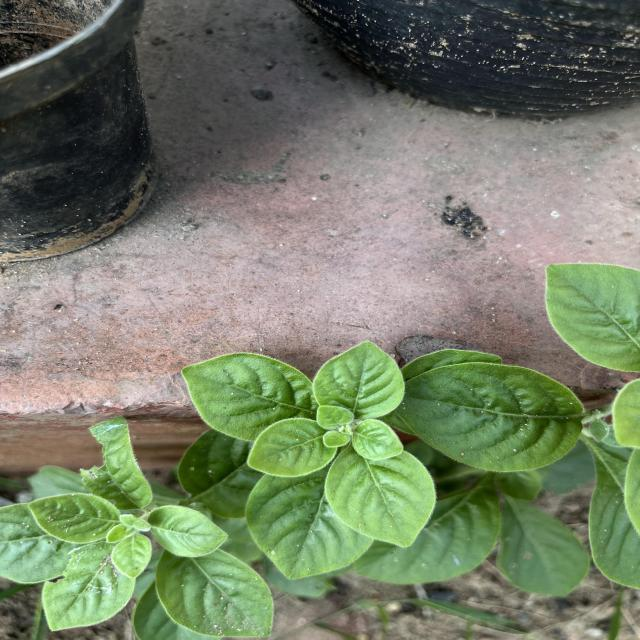Aerva lanata: (398, 359, 586, 477), (177, 348, 317, 446), (322, 446, 439, 550), (310, 338, 408, 422), (244, 416, 340, 480), (24, 488, 119, 548), (145, 503, 232, 561)
